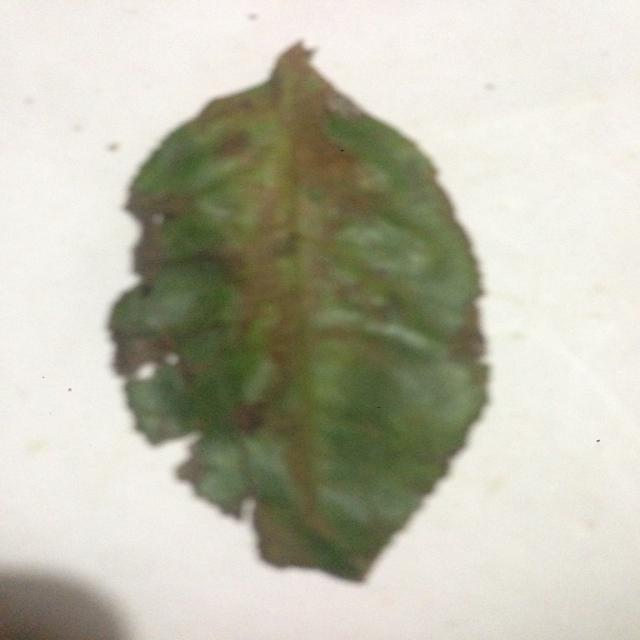Red Leaf Spot: (96, 36, 514, 587)
